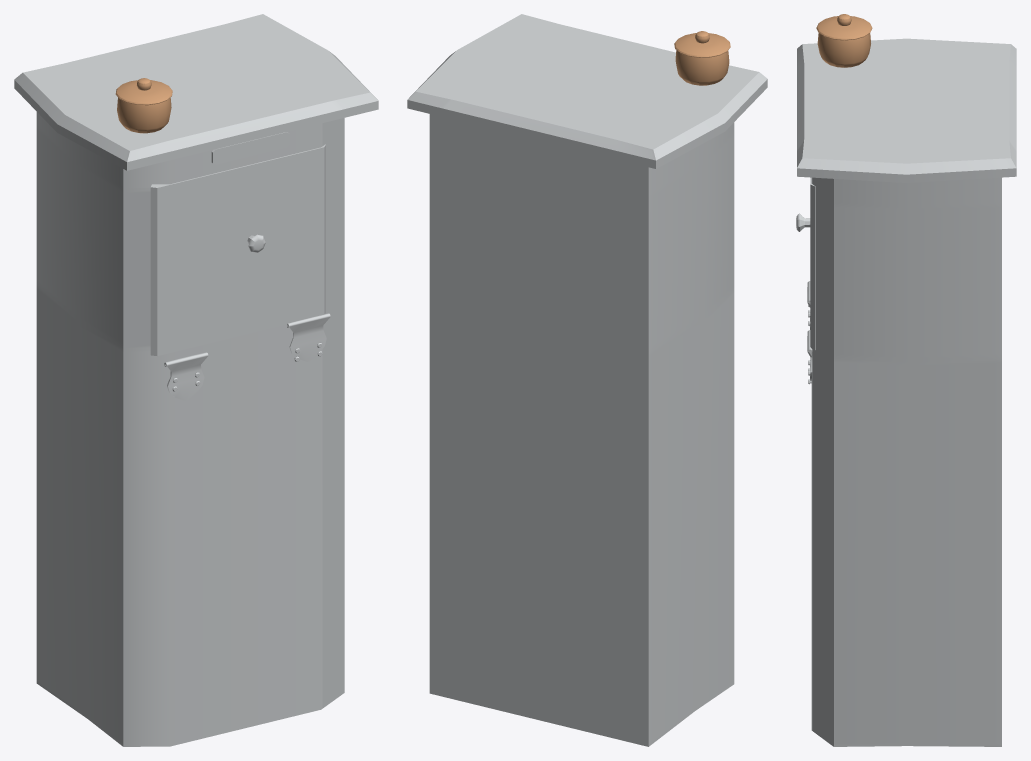
File: bingxiang.fbx
3 renders of one model, left to right at view 1: azimuth 30°, elevation 25°; view 2: azimuth 150°, elevation 25°; view 3: azimuth 270°, elevation 25°, orthographic. The views are drawn at different scales.
Visible parts, largest first — view 1: pCylinder231; view 2: pCylinder231; view 3: pCylinder231.
Boxes of the visible parts, box(x1,y1,x2,y2) form: pCylinder231: box(14, 14, 378, 746); pCylinder231: box(407, 14, 767, 746); pCylinder231: box(796, 14, 1016, 746).
Bounding box in the file's own units: 4.19 × 9.44 × 2.95.
